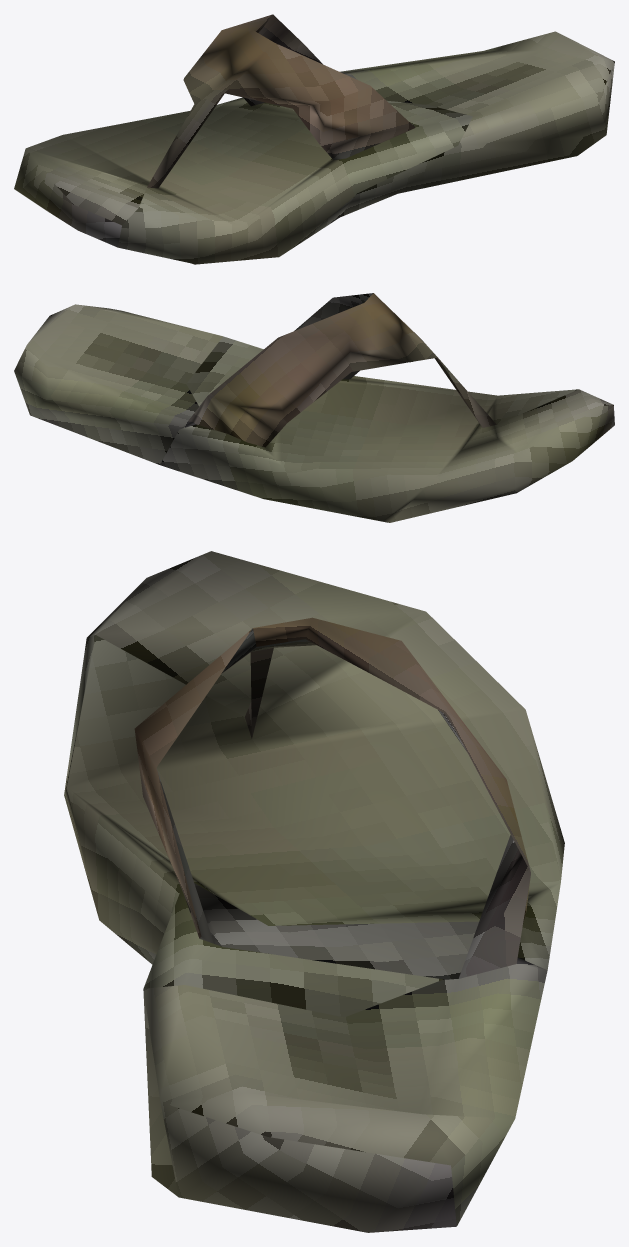
The model's file is Mens_Santa_Cruz_Thong_in_Chocolate_La1fo2mAovE-low.glb.
The picture shows the model from 3 angles, top to bottom: view 1: azimuth 30°, elevation 25°; view 2: azimuth 150°, elevation 25°; view 3: azimuth 270°, elevation 25°; orthographic projection. The views are drawn at different scales.
Visible parts, largest first — view 1: Mens_Santa_Cruz_Thong_in_Chocolate_La1fo2mAovE; view 2: Mens_Santa_Cruz_Thong_in_Chocolate_La1fo2mAovE; view 3: Mens_Santa_Cruz_Thong_in_Chocolate_La1fo2mAovE.
Boxes of the visible parts, x1,y1,x2,y2 form: Mens_Santa_Cruz_Thong_in_Chocolate_La1fo2mAovE: (14,14,614,264); Mens_Santa_Cruz_Thong_in_Chocolate_La1fo2mAovE: (14,293,614,522); Mens_Santa_Cruz_Thong_in_Chocolate_La1fo2mAovE: (64,551,564,1232).
Size of the model in its own units: 0.2851 by 0.0831 by 0.114.
1 material, 1 textured.
